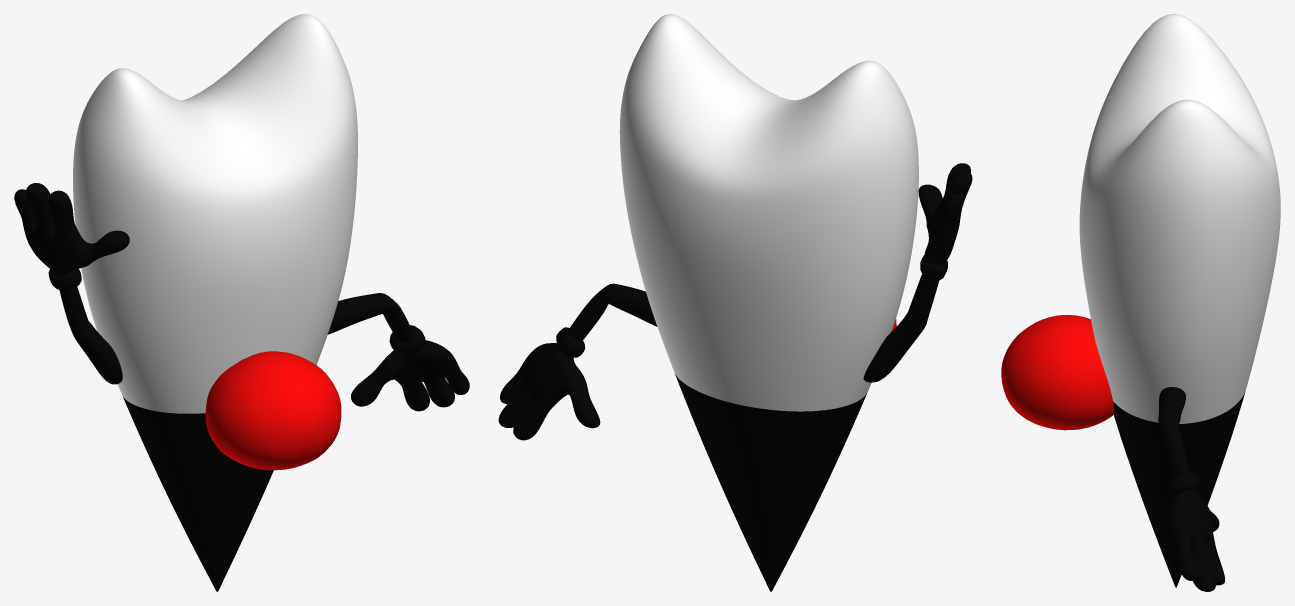
Rendered from dukewave1.obj.
3 renders of one model, left to right at view 1: azimuth 30°, elevation 25°; view 2: azimuth 150°, elevation 25°; view 3: azimuth 270°, elevation 25°, orthographic. The views are drawn at different scales.
Visible parts, largest first — view 1: javadude, javadude_hands, javadude_nase; view 2: javadude, javadude_hands; view 3: javadude, javadude_nase, javadude_hands.
Boxes of the visible parts, x1=… form: javadude: x1=73, y1=14, x2=357, y2=591; javadude_hands: x1=14, y1=183, x2=469, y2=411; javadude_nase: x1=205, y1=351, x2=341, y2=470; javadude: x1=619, y1=14, x2=918, y2=591; javadude_hands: x1=498, y1=163, x2=972, y2=440; javadude: x1=1079, y1=14, x2=1280, y2=587; javadude_nase: x1=1001, y1=314, x2=1114, y2=430; javadude_hands: x1=1158, y1=387, x2=1224, y2=591.
Bounding box in the file's own units: 1.93 × 2.23 × 1.06.
